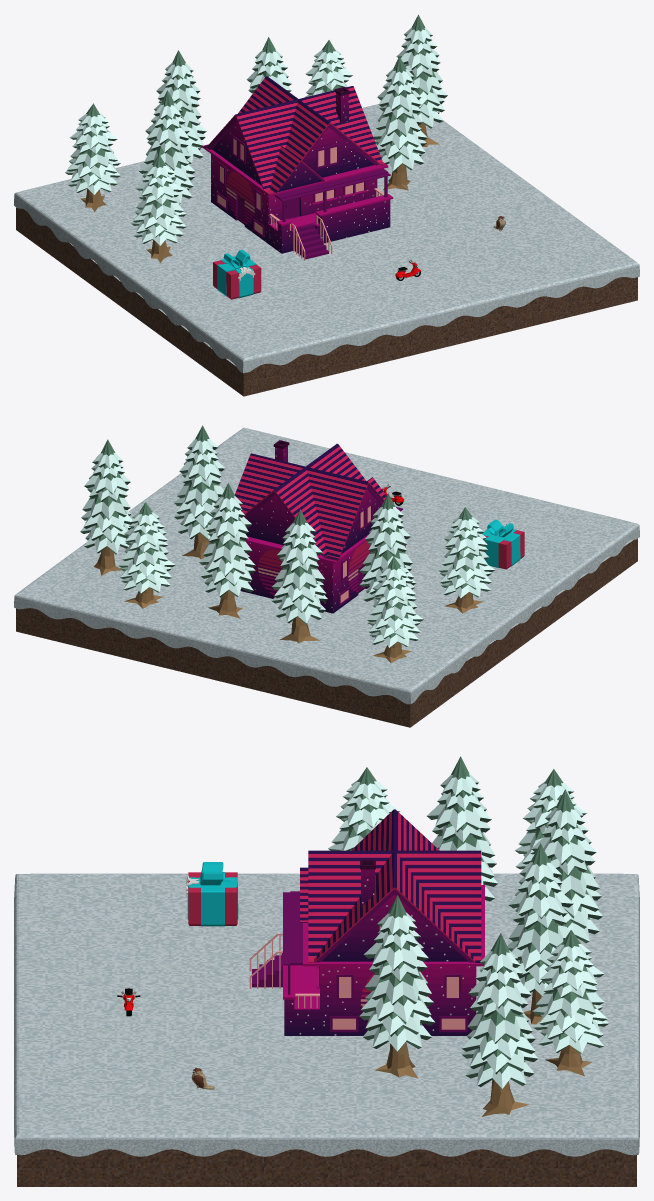
3 views of the same model, one above another, from view 1: azimuth 30°, elevation 25°; view 2: azimuth 150°, elevation 25°; view 3: azimuth 270°, elevation 25° (orthographic). The views are drawn at different scales.
Visible parts, largest first — view 1: Cube.003, Cube.156, OBJRANDOM_GIANT_PRESENT; view 2: Cube.003, Cube.156, OBJRANDOM_GIANT_PRESENT; view 3: Cube.003, Cube.156, OBJRANDOM_GIANT_PRESENT.
Boxes of the visible parts, left/top/right/bottom form: Cube.003: left=14, top=14, right=639, bottom=396; Cube.156: left=202, top=76, right=393, bottom=260; OBJRANDOM_GIANT_PRESENT: left=213, top=249, right=261, bottom=299; Cube.003: left=14, top=425, right=639, bottom=727; Cube.156: left=235, top=440, right=405, bottom=613; OBJRANDOM_GIANT_PRESENT: left=482, top=519, right=524, bottom=569; Cube.003: left=14, top=756, right=639, bottom=1186; Cube.156: left=249, top=809, right=484, bottom=1035; OBJRANDOM_GIANT_PRESENT: left=186, top=862, right=238, bottom=926.
Size of the model in its own units: 4040 by 1665 by 4040.
30 materials, 5 textured.
